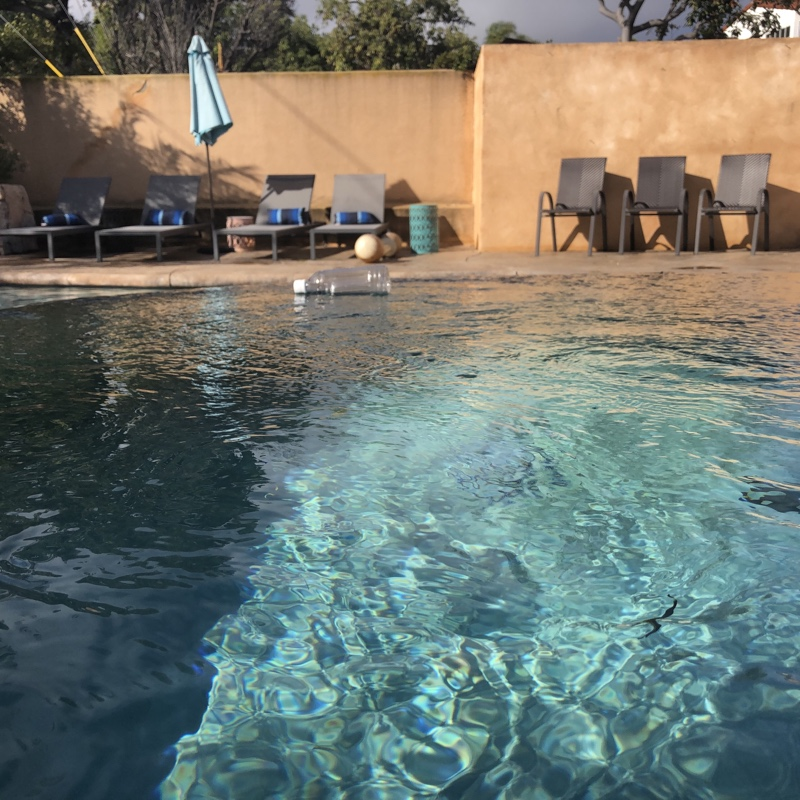Plastic Bottle: (291, 262, 393, 300)
